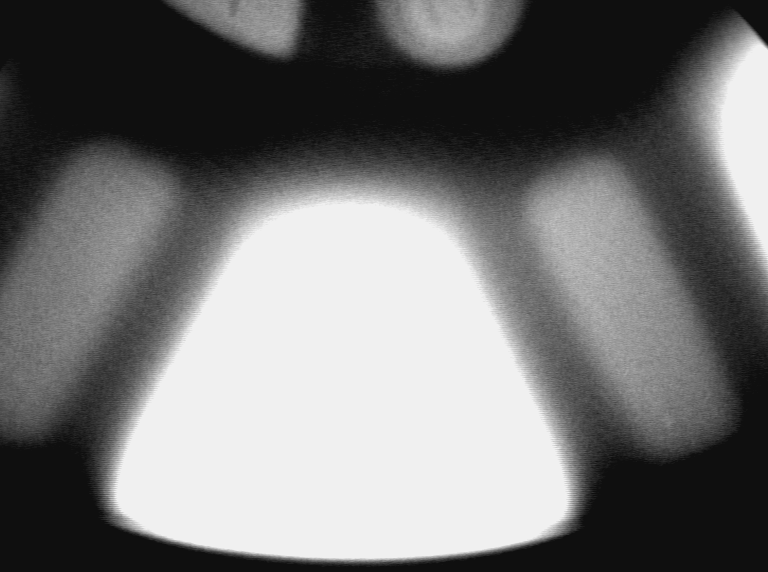defect: (655, 411, 683, 433)
